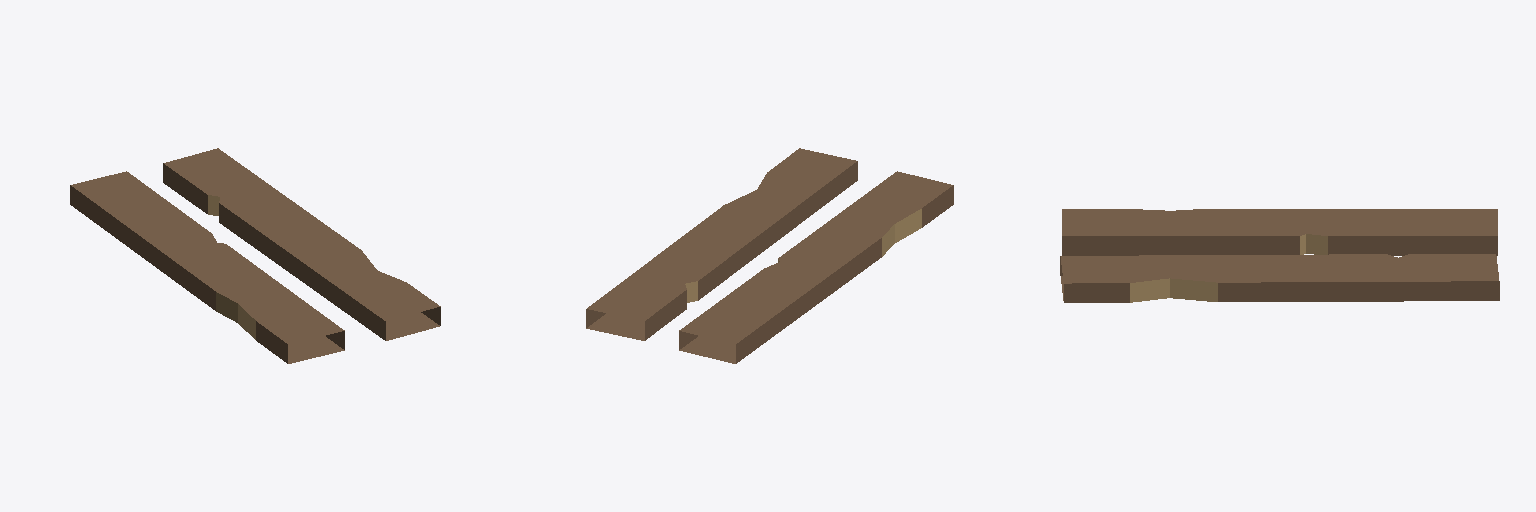
The model's file is Cave_Prop_Support_Ceiling_Boards_1.obj.
3 views of the same model, side by side, from view 1: azimuth 30°, elevation 25°; view 2: azimuth 150°, elevation 25°; view 3: azimuth 270°, elevation 25° (orthographic).
Parts seen in each view (by area): view 1: object2, object1; view 2: object2, object1; view 3: object1, object2.
Part boxes in pixels (x1,y1,x2,y2): object2: (70,171,344,363); object1: (163,148,440,340); object2: (679,171,953,363); object1: (586,148,857,340); object1: (1060,254,1499,302); object2: (1062,209,1497,255).
Size of the model in its own units: 0.8124 by 0.1 by 2.01.